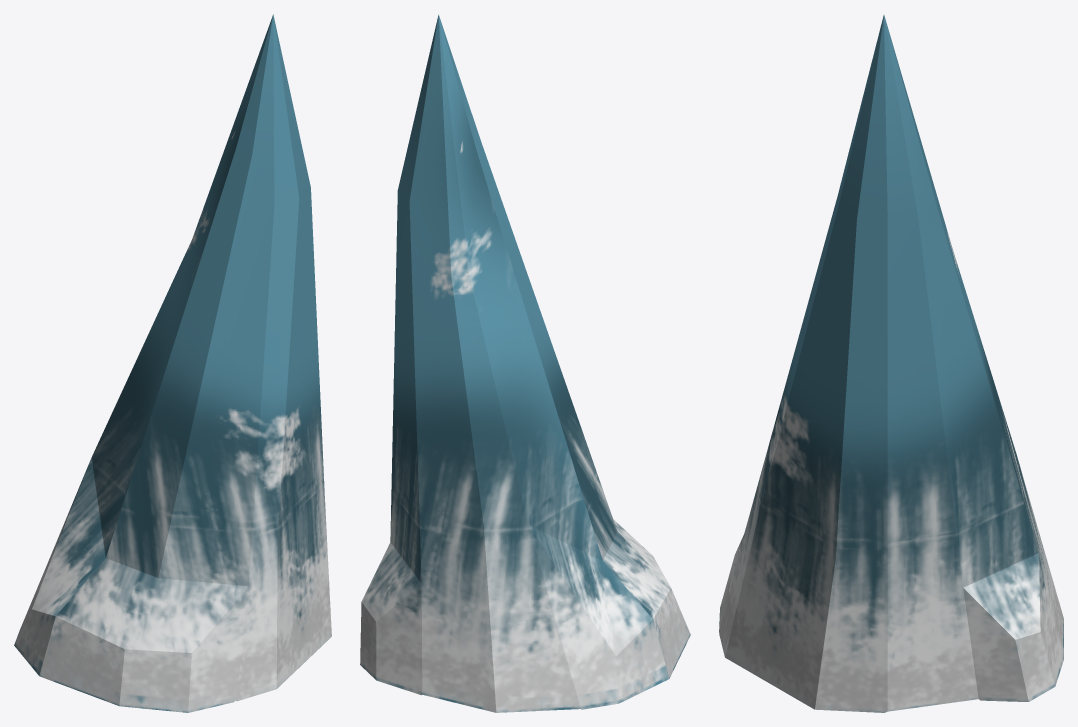
File: ms_iceShape09.fbx
3 renders of one model, left to right at view 1: azimuth 30°, elevation 25°; view 2: azimuth 150°, elevation 25°; view 3: azimuth 270°, elevation 25°, orthographic. The views are drawn at different scales.
Parts seen in each view (by area): view 1: polySurface19; view 2: polySurface19; view 3: polySurface19.
Boxes of the visible parts, x1=… form: polySurface19: x1=14, y1=14, x2=331, y2=712; polySurface19: x1=360, y1=14, x2=690, y2=712; polySurface19: x1=719, y1=15, x2=1063, y2=712.
Bounding box in the file's own units: 246 × 536 × 246.
